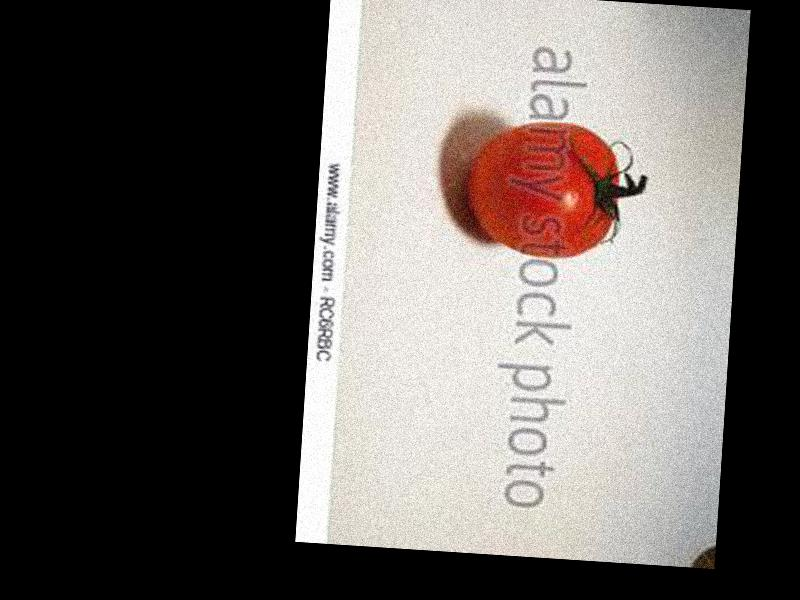Tomato: (465, 117, 624, 262)
